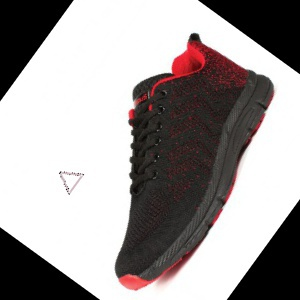triangle: (58, 168, 86, 195)
